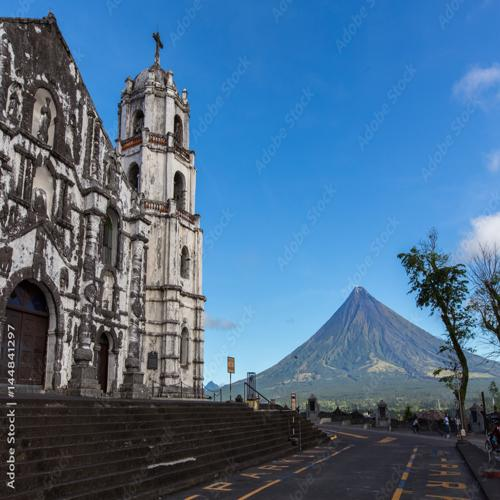Daraga Church: (2, 7, 208, 401)
